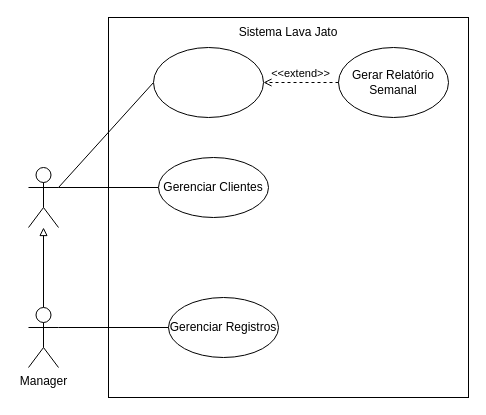
Image size: 486x415. Some labels were removed from this diagram. The centre of each missing label's shape, as x and y in pixels:
"Employee" goes at point (43, 197).
"Gerenciar Serviços" goes at point (208, 82).
